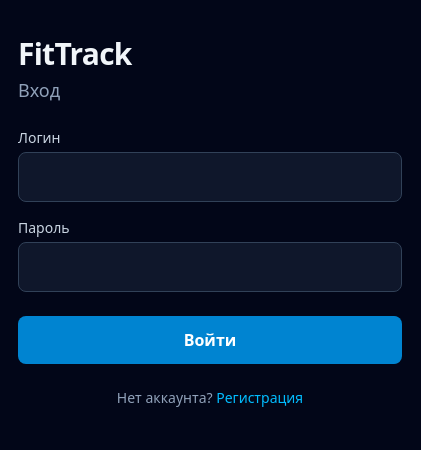
Test: LoginPage › при неверном пароле показывает ошибку и остаётся на странице
In the field labelled "Логин": (210, 177) [18, 152, 402, 202], type "oleg"
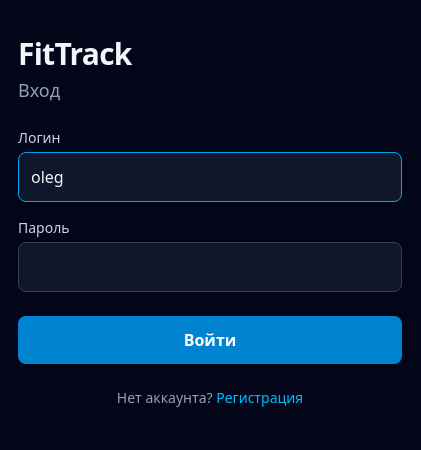
In the password field labelled "Пароль": (210, 267) [18, 242, 402, 292], type "не-тот"
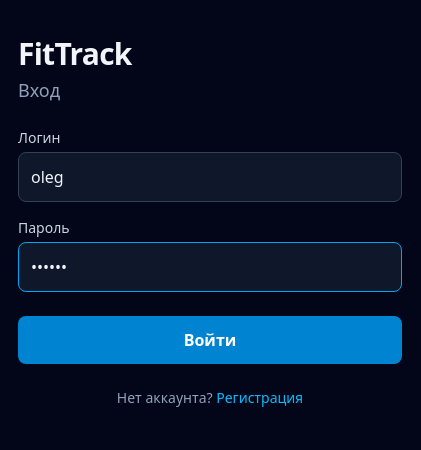
Click the button "Войти": (210, 340) [18, 316, 402, 364]
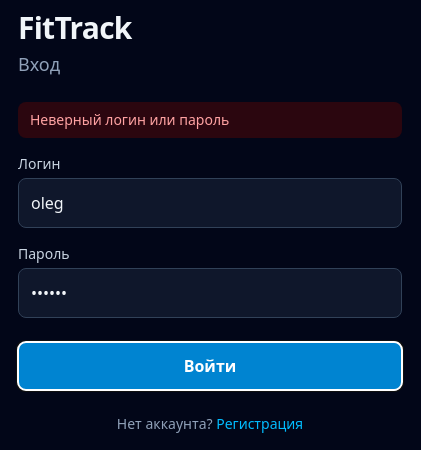
Now the text "Неверный логин или пароль" is shown, box [18, 102, 402, 138]
